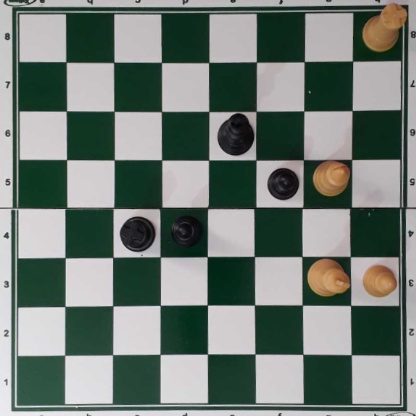black-king: (216, 111, 256, 154)
black-pawn: (266, 166, 300, 200), (168, 213, 201, 247)
black-rook: (119, 216, 156, 251)
white-bishop: (312, 159, 351, 197)
white-king: (306, 258, 351, 297)
white-pawn: (361, 264, 397, 297)
white-rook: (361, 1, 408, 52)
